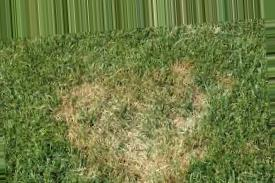patch: (71, 88, 202, 168)
